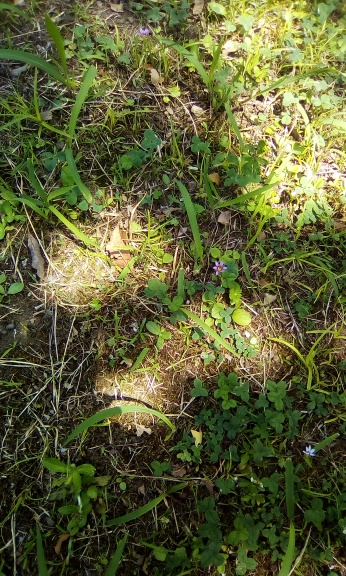4leaf: (143, 278, 169, 301)
